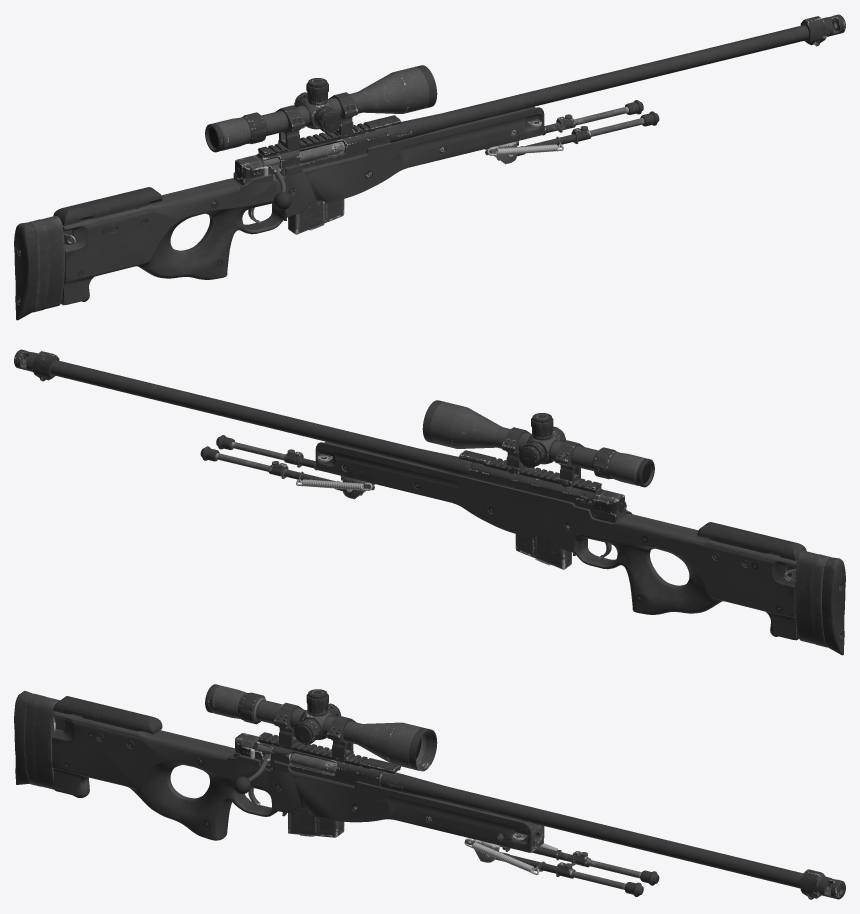
Rendered from AWPn.glb.
3 renders of one model, top to bottom at view 1: azimuth 30°, elevation 25°; view 2: azimuth 150°, elevation 25°; view 3: azimuth 330°, elevation 25°, orthographic.
Parts seen in each view (by area): view 1: Object_7; view 2: Object_7; view 3: Object_7.
Boxes of the visible parts, x1,y1,x2,y2 form: Object_7: (14, 14, 845, 320); Object_7: (14, 349, 845, 655); Object_7: (14, 684, 845, 899).
Bounding box in the file's own units: 33.36 × 6.53 × 2.77.
Materials: 1 (1 with a texture image).
